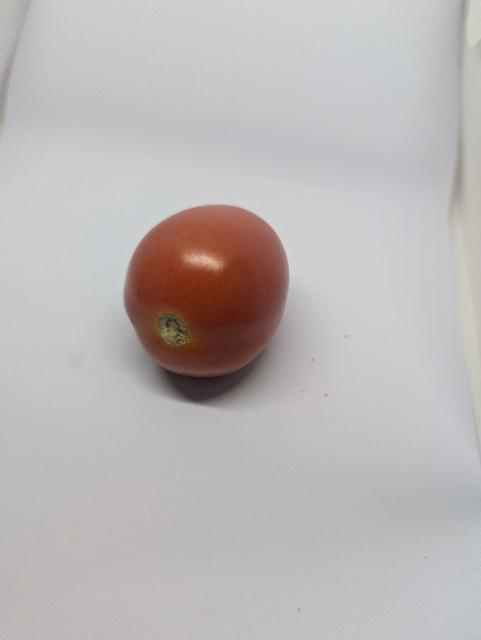red: (116, 197, 303, 400)
